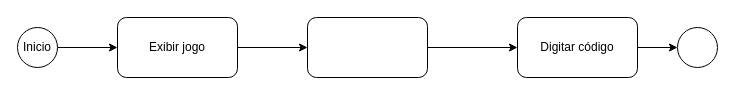
This 735x95 diagram has some shape labels left out. Here are the shapes that lost their labels. From the top down, the box of each, then its label:
(306, 16, 428, 78): Jogar
(676, 26, 718, 68): Fim
